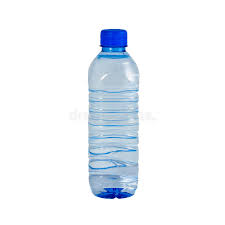bottle: (84, 26, 144, 200)
